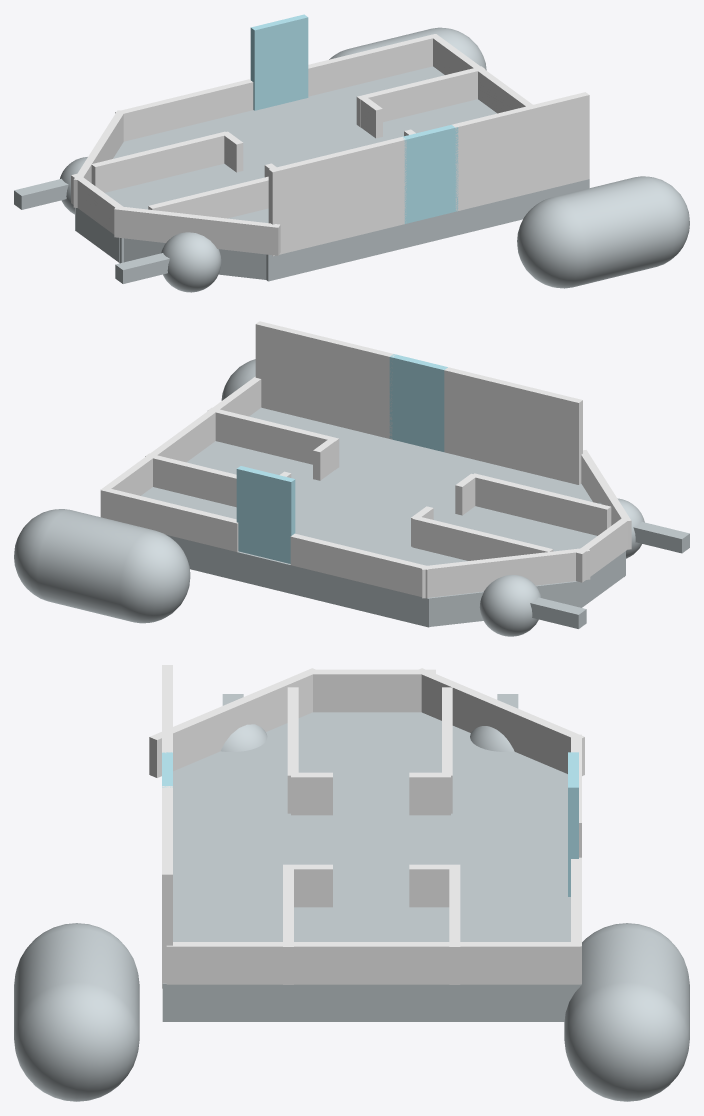
Rendered from Ship.fbx.
3 views of the same model, one above another, from view 1: azimuth 30°, elevation 25°; view 2: azimuth 150°, elevation 25°; view 3: azimuth 270°, elevation 25° (orthographic). The views are drawn at different scales.
Parts seen in each view (by area): view 1: Cube, Capsule__1_, Cube__1_, Cube__4_, Cube__11_, Cube__16_, Cube__10_, Cube__21_, Cube__9_, Cube__2_, Cube__14_, Cube__3_ (+13 smaller); view 2: Cube, Capsule, Cube__4_, Cube__1_, Cube__11_, Cube__10_, Cube__17_, Cube__9_, Cube__2_, Cube__20_, Cube__7_, Cube__12_ (+14 smaller); view 3: Cube, Capsule__1_, Capsule, Cube__7_, Cube__14_, Cube__13_, Cube__16_, Cube__17_, Cube__8_, Cube__15_, Cube__1_, Cube__18_ (+12 smaller).
Boxes of the visible parts, x1,y1,x2,y2 form: Cube: [126, 66, 589, 281]; Capsule__1_: [517, 176, 689, 288]; Cube__1_: [452, 92, 589, 211]; Cube__4_: [268, 136, 406, 256]; Cube__11_: [250, 14, 308, 110]; Cube__16_: [114, 207, 280, 255]; Cube__10_: [403, 125, 458, 223]; Cube__21_: [91, 131, 228, 192]; Cube__9_: [115, 79, 253, 141]; Cube__2_: [308, 34, 438, 96]; Cube__14_: [119, 174, 268, 279]; Cube__3_: [356, 66, 485, 127]; Cube: [141, 407, 582, 627]; Capsule: [14, 509, 190, 623]; Cube__4_: [443, 367, 582, 484]; Cube__1_: [255, 321, 395, 439]; Cube__11_: [236, 466, 295, 563]; Cube__10_: [389, 354, 447, 451]; Cube__17_: [421, 547, 590, 598]; Cube__9_: [290, 533, 430, 598]; Cube__2_: [100, 489, 238, 551]; Cube__20_: [471, 473, 611, 535]; Cube__7_: [101, 376, 261, 495]; Cube__12_: [207, 407, 339, 469]; Cube: [162, 771, 581, 1021]; Capsule__1_: [14, 923, 139, 1101]; Capsule: [564, 923, 689, 1101]; Cube__7_: [166, 942, 580, 984]; Cube__14_: [173, 712, 461, 834]; Cube__13_: [299, 714, 567, 834]; Cube__16_: [149, 668, 318, 777]; Cube__17_: [418, 668, 584, 775]; Cube__8_: [310, 669, 435, 712]; Cube__15_: [309, 712, 435, 770]; Cube__1_: [162, 786, 172, 988]; Cube__18_: [291, 772, 332, 815].
Size of the model in its own units: 1893 by 543 by 1613.
